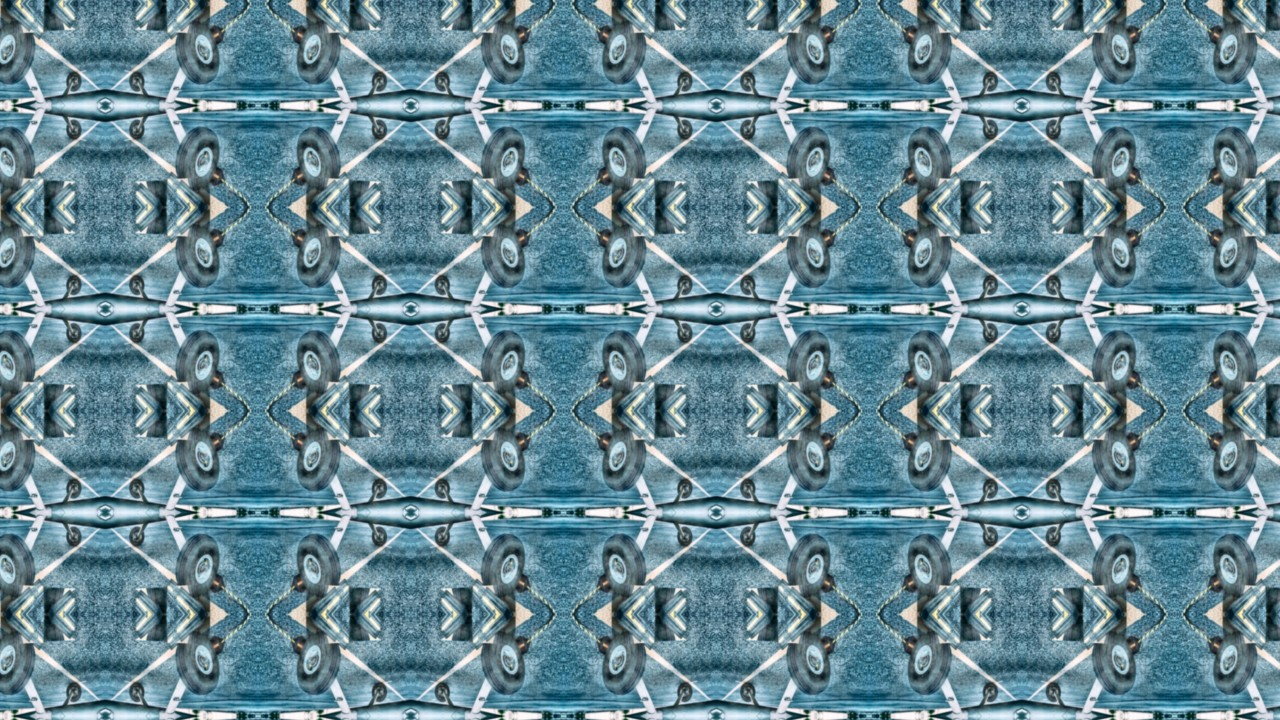chock: (0, 3, 38, 33), (171, 3, 209, 33), (306, 3, 344, 33), (477, 3, 515, 33), (612, 3, 650, 33), (783, 3, 821, 33), (918, 3, 956, 33), (1089, 3, 1127, 33), (1224, 3, 1262, 33), (0, 177, 38, 207), (171, 177, 209, 207), (306, 177, 344, 207), (477, 177, 515, 207), (612, 177, 650, 207), (783, 177, 821, 207), (918, 177, 956, 207), (1089, 177, 1127, 207), (1224, 177, 1262, 207), (0, 207, 38, 237), (171, 207, 209, 237), (306, 207, 344, 237), (477, 207, 515, 237), (612, 207, 650, 237), (783, 207, 821, 237), (918, 207, 956, 237), (1089, 207, 1127, 237), (1224, 207, 1262, 237), (0, 381, 38, 411), (171, 381, 209, 411), (306, 381, 344, 411), (477, 381, 515, 411), (612, 381, 650, 411), (783, 381, 821, 411), (918, 381, 956, 411), (1089, 381, 1127, 411), (1224, 381, 1262, 411), (0, 411, 38, 441), (171, 411, 209, 441), (306, 411, 344, 441), (477, 411, 515, 441), (612, 411, 650, 441), (783, 411, 821, 441), (918, 411, 956, 441), (1089, 411, 1127, 441), (1224, 411, 1262, 441), (0, 585, 38, 615), (171, 585, 209, 615), (306, 585, 344, 615), (477, 585, 515, 615), (612, 585, 650, 615), (783, 585, 821, 615), (918, 585, 956, 615), (1089, 585, 1127, 615), (1224, 585, 1262, 615), (0, 615, 38, 645), (171, 615, 209, 645), (306, 615, 344, 645), (477, 615, 515, 645), (612, 615, 650, 645), (783, 615, 821, 645), (918, 615, 956, 645), (1089, 615, 1127, 645), (1224, 615, 1262, 645), (17, 4, 46, 41), (163, 4, 192, 41), (323, 4, 352, 41), (469, 4, 498, 41), (629, 4, 658, 41), (775, 4, 804, 41), (935, 4, 964, 41), (1081, 4, 1110, 41), (1241, 4, 1270, 41), (17, 169, 46, 206), (163, 169, 192, 206), (323, 169, 352, 206), (469, 169, 498, 206), (629, 169, 658, 206), (775, 169, 804, 206), (935, 169, 964, 206), (1081, 169, 1110, 206), (1241, 169, 1270, 206), (17, 208, 46, 245), (163, 208, 192, 245), (323, 208, 352, 245), (469, 208, 498, 245), (629, 208, 658, 245), (775, 208, 804, 245), (935, 208, 964, 245), (1081, 208, 1110, 245), (1241, 208, 1270, 245), (17, 373, 46, 410), (163, 373, 192, 410), (323, 373, 352, 410), (469, 373, 498, 410), (629, 373, 658, 410), (775, 373, 804, 410), (935, 373, 964, 410), (1081, 373, 1110, 410), (1241, 373, 1270, 410), (17, 412, 46, 449), (163, 412, 192, 449), (323, 412, 352, 449), (469, 412, 498, 449), (629, 412, 658, 449), (775, 412, 804, 449), (935, 412, 964, 449), (1081, 412, 1110, 449), (1241, 412, 1270, 449), (17, 577, 46, 614), (163, 577, 192, 614), (323, 577, 352, 614), (469, 577, 498, 614), (629, 577, 658, 614), (775, 577, 804, 614), (935, 577, 964, 614), (1081, 577, 1110, 614), (1241, 577, 1270, 614), (17, 616, 46, 653), (163, 616, 192, 653), (323, 616, 352, 653), (469, 616, 498, 653), (629, 616, 658, 653), (775, 616, 804, 653), (935, 616, 964, 653), (1081, 616, 1110, 653), (1241, 616, 1270, 653), (43, 3, 79, 30), (130, 3, 166, 30), (349, 3, 385, 30), (436, 3, 472, 30), (655, 3, 691, 30), (742, 3, 778, 30), (961, 3, 997, 30), (1048, 3, 1084, 30), (43, 180, 79, 207), (130, 180, 166, 207), (349, 180, 385, 207), (436, 180, 472, 207), (655, 180, 691, 207), (742, 180, 778, 207), (961, 180, 997, 207), (1048, 180, 1084, 207), (43, 207, 79, 234), (130, 207, 166, 234), (349, 207, 385, 234), (436, 207, 472, 234), (655, 207, 691, 234), (742, 207, 778, 234), (961, 207, 997, 234), (1048, 207, 1084, 234), (43, 384, 79, 411), (130, 384, 166, 411), (349, 384, 385, 411), (436, 384, 472, 411), (655, 384, 691, 411), (742, 384, 778, 411), (961, 384, 997, 411), (1048, 384, 1084, 411), (43, 411, 79, 438), (130, 411, 166, 438), (349, 411, 385, 438), (436, 411, 472, 438), (655, 411, 691, 438), (742, 411, 778, 438), (961, 411, 997, 438), (1048, 411, 1084, 438), (43, 588, 79, 615), (130, 588, 166, 615), (349, 588, 385, 615), (436, 588, 472, 615), (655, 588, 691, 615), (742, 588, 778, 615), (961, 588, 997, 615), (1048, 588, 1084, 615), (43, 615, 79, 642), (130, 615, 166, 642), (349, 615, 385, 642), (436, 615, 472, 642), (655, 615, 691, 642), (742, 615, 778, 642), (961, 615, 997, 642), (1048, 615, 1084, 642), (205, 24, 225, 46), (290, 24, 310, 46), (511, 24, 531, 46), (596, 24, 616, 46), (817, 24, 837, 46), (902, 24, 922, 46), (1123, 24, 1143, 46), (1208, 24, 1228, 46), (205, 164, 225, 186), (290, 164, 310, 186), (511, 164, 531, 186), (596, 164, 616, 186), (817, 164, 837, 186), (902, 164, 922, 186), (1123, 164, 1143, 186), (1208, 164, 1228, 186), (205, 228, 225, 250), (290, 228, 310, 250), (511, 228, 531, 250), (596, 228, 616, 250), (817, 228, 837, 250), (902, 228, 922, 250), (1123, 228, 1143, 250), (1208, 228, 1228, 250), (205, 368, 225, 390), (290, 368, 310, 390), (511, 368, 531, 390), (596, 368, 616, 390), (817, 368, 837, 390), (902, 368, 922, 390), (1123, 368, 1143, 390), (1208, 368, 1228, 390), (205, 432, 225, 454), (290, 432, 310, 454), (511, 432, 531, 454), (596, 432, 616, 454), (817, 432, 837, 454), (902, 432, 922, 454), (1123, 432, 1143, 454), (1208, 432, 1228, 454), (205, 572, 225, 594), (290, 572, 310, 594), (511, 572, 531, 594), (596, 572, 616, 594), (817, 572, 837, 594), (902, 572, 922, 594), (1123, 572, 1143, 594), (1208, 572, 1228, 594), (205, 636, 225, 658), (290, 636, 310, 658), (511, 636, 531, 658), (596, 636, 616, 658), (817, 636, 837, 658), (902, 636, 922, 658), (1123, 636, 1143, 658), (1208, 636, 1228, 658), (1267, 3, 1280, 30), (1267, 180, 1280, 207), (1267, 207, 1280, 234), (1267, 384, 1280, 411), (1267, 411, 1280, 438), (1267, 588, 1280, 615), (1267, 615, 1280, 642), (0, 0, 38, 3), (171, 0, 209, 3), (306, 0, 344, 3), (477, 0, 515, 3), (612, 0, 650, 3), (783, 0, 821, 3), (918, 0, 956, 3), (1089, 0, 1127, 3), (1224, 0, 1262, 3), (43, 0, 79, 3), (130, 0, 166, 3), (349, 0, 385, 3), (436, 0, 472, 3), (655, 0, 691, 3), (742, 0, 778, 3), (961, 0, 997, 3), (1048, 0, 1084, 3), (0, 24, 4, 46), (0, 164, 4, 186), (0, 228, 4, 250), (0, 368, 4, 390), (0, 432, 4, 454), (0, 572, 4, 594), (0, 636, 4, 658)
wheel: (174, 19, 219, 86), (296, 19, 341, 86), (480, 19, 525, 86), (602, 19, 647, 86), (786, 19, 831, 86), (908, 19, 953, 86), (1092, 19, 1137, 86), (1214, 19, 1259, 86), (174, 124, 219, 191), (296, 124, 341, 191), (480, 124, 525, 191), (602, 124, 647, 191), (786, 124, 831, 191), (908, 124, 953, 191), (1092, 124, 1137, 191), (1214, 124, 1259, 191), (174, 223, 219, 290), (296, 223, 341, 290), (480, 223, 525, 290), (602, 223, 647, 290), (786, 223, 831, 290), (908, 223, 953, 290), (1092, 223, 1137, 290), (1214, 223, 1259, 290), (174, 328, 219, 395), (296, 328, 341, 395), (480, 328, 525, 395), (602, 328, 647, 395), (786, 328, 831, 395), (908, 328, 953, 395), (1092, 328, 1137, 395), (1214, 328, 1259, 395), (174, 427, 219, 494), (296, 427, 341, 494), (480, 427, 525, 494), (602, 427, 647, 494), (786, 427, 831, 494), (908, 427, 953, 494), (1092, 427, 1137, 494), (1214, 427, 1259, 494), (174, 532, 219, 599), (296, 532, 341, 599), (480, 532, 525, 599), (602, 532, 647, 599), (786, 532, 831, 599), (908, 532, 953, 599), (1092, 532, 1137, 599), (1214, 532, 1259, 599), (174, 631, 219, 698), (296, 631, 341, 698), (480, 631, 525, 698), (602, 631, 647, 698), (786, 631, 831, 698), (908, 631, 953, 698), (1092, 631, 1137, 698), (1214, 631, 1259, 698), (0, 19, 35, 86), (0, 124, 35, 191), (0, 223, 35, 290), (0, 328, 35, 395), (0, 427, 35, 494), (0, 532, 35, 599), (0, 631, 35, 698), (65, 70, 82, 92), (127, 70, 144, 92), (371, 70, 388, 92), (433, 70, 450, 92), (677, 70, 694, 92), (739, 70, 756, 92), (983, 70, 1000, 92), (1045, 70, 1062, 92), (65, 118, 82, 140), (127, 118, 144, 140), (371, 118, 388, 140), (433, 118, 450, 140), (677, 118, 694, 140), (739, 118, 756, 140), (983, 118, 1000, 140), (1045, 118, 1062, 140), (65, 274, 82, 296), (127, 274, 144, 296), (371, 274, 388, 296), (433, 274, 450, 296), (677, 274, 694, 296), (739, 274, 756, 296), (983, 274, 1000, 296), (1045, 274, 1062, 296), (65, 322, 82, 344), (127, 322, 144, 344), (371, 322, 388, 344), (433, 322, 450, 344), (677, 322, 694, 344), (739, 322, 756, 344), (983, 322, 1000, 344), (1045, 322, 1062, 344), (65, 478, 82, 500), (127, 478, 144, 500), (371, 478, 388, 500), (433, 478, 450, 500), (677, 478, 694, 500), (739, 478, 756, 500), (983, 478, 1000, 500), (1045, 478, 1062, 500), (65, 526, 82, 548), (127, 526, 144, 548), (371, 526, 388, 548), (433, 526, 450, 548), (677, 526, 694, 548), (739, 526, 756, 548), (983, 526, 1000, 548), (1045, 526, 1062, 548), (65, 682, 82, 704), (127, 682, 144, 704), (371, 682, 388, 704), (433, 682, 450, 704), (677, 682, 694, 704), (739, 682, 756, 704), (983, 682, 1000, 704), (1045, 682, 1062, 704)
